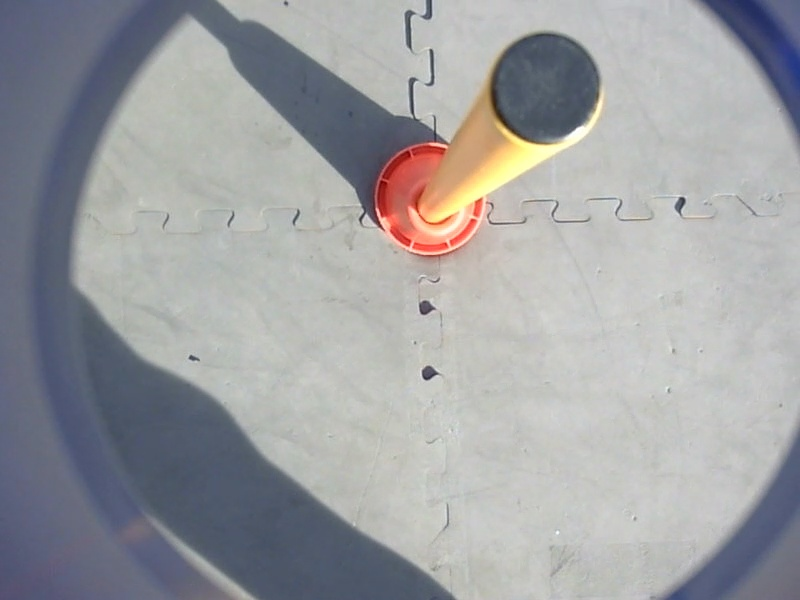tip: (482, 27, 608, 153)
